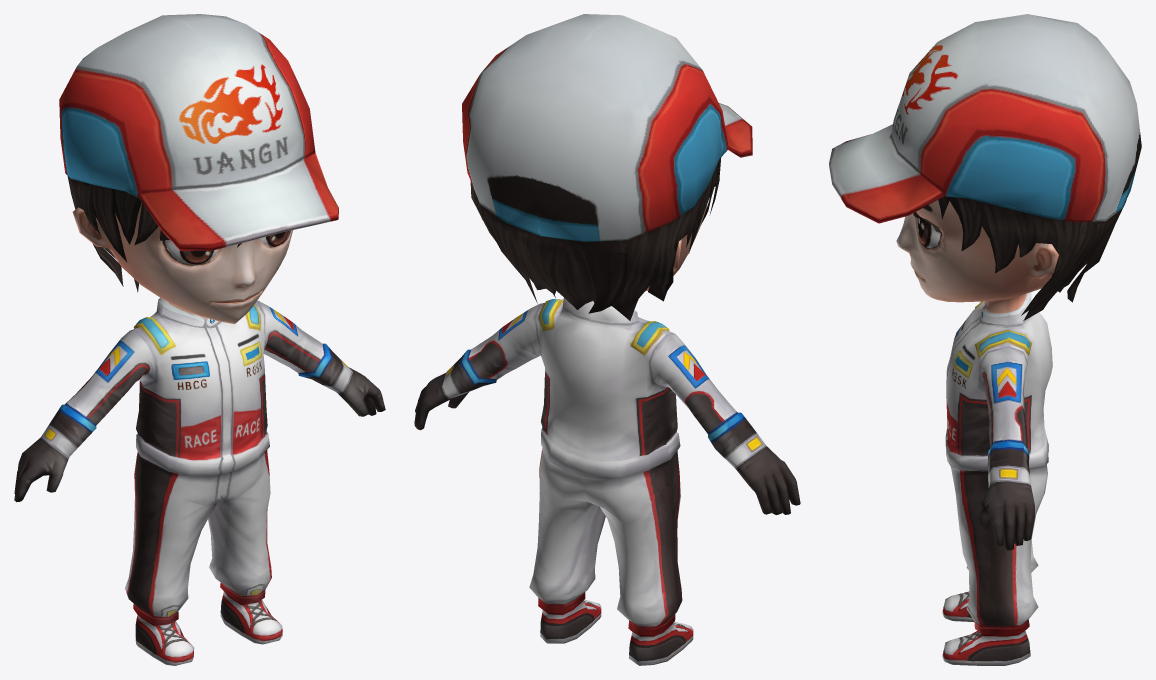
Rendered from model_man1.FBX.
3 views of the same model, side by side, from view 1: azimuth 30°, elevation 25°; view 2: azimuth 150°, elevation 25°; view 3: azimuth 270°, elevation 25° (orthographic). The views are drawn at different scales.
Parts seen in each view (by area): view 1: model_man1; view 2: model_man1; view 3: model_man1.
Boxes of the visible parts, left/top/right/bottom form: model_man1: left=14, top=14, right=385, bottom=665; model_man1: left=414, top=14, right=800, bottom=665; model_man1: left=829, top=14, right=1141, bottom=665.
Bounding box in the file's own units: 60.53 × 94.09 × 43.72.
